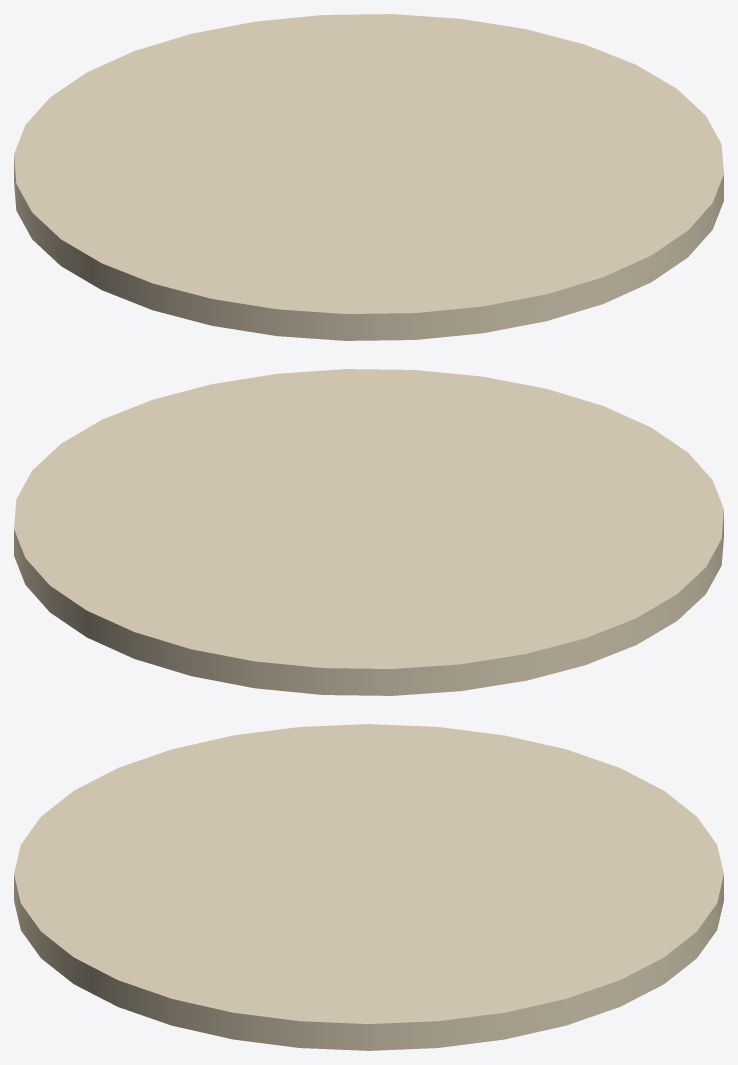
The model's file is Arena.fbx.
3 views of the same model, one above another, from view 1: azimuth 30°, elevation 25°; view 2: azimuth 150°, elevation 25°; view 3: azimuth 270°, elevation 25° (orthographic).
Visible parts, largest first — view 1: Arena_1, Arena_4, Arena_3, Arena_2; view 2: Arena_1, Arena_4, Arena_3, Arena_2; view 3: Arena_1, Arena_4, Arena_3, Arena_2.
Part boxes in pixels (x1,y1,x2,y2): Arena_1: [147, 70, 590, 257]; Arena_4: [14, 14, 723, 340]; Arena_3: [58, 32, 679, 295]; Arena_2: [102, 51, 635, 276]; Arena_1: [147, 425, 590, 612]; Arena_4: [14, 369, 723, 695]; Arena_3: [58, 387, 679, 650]; Arena_2: [102, 406, 635, 631]; Arena_1: [147, 780, 590, 967]; Arena_4: [14, 724, 723, 1050]; Arena_3: [58, 743, 679, 1005]; Arena_2: [103, 761, 634, 986].
Bounding box in the file's own units: 48 × 2 × 48.
